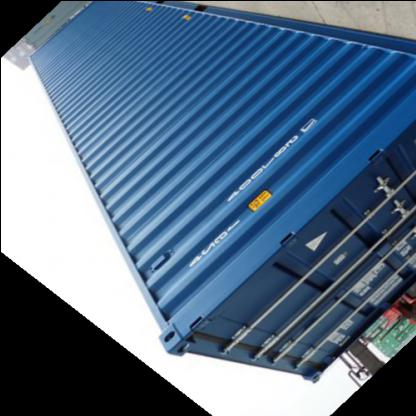Damage: (176, 10, 200, 32), (139, 3, 153, 19)
